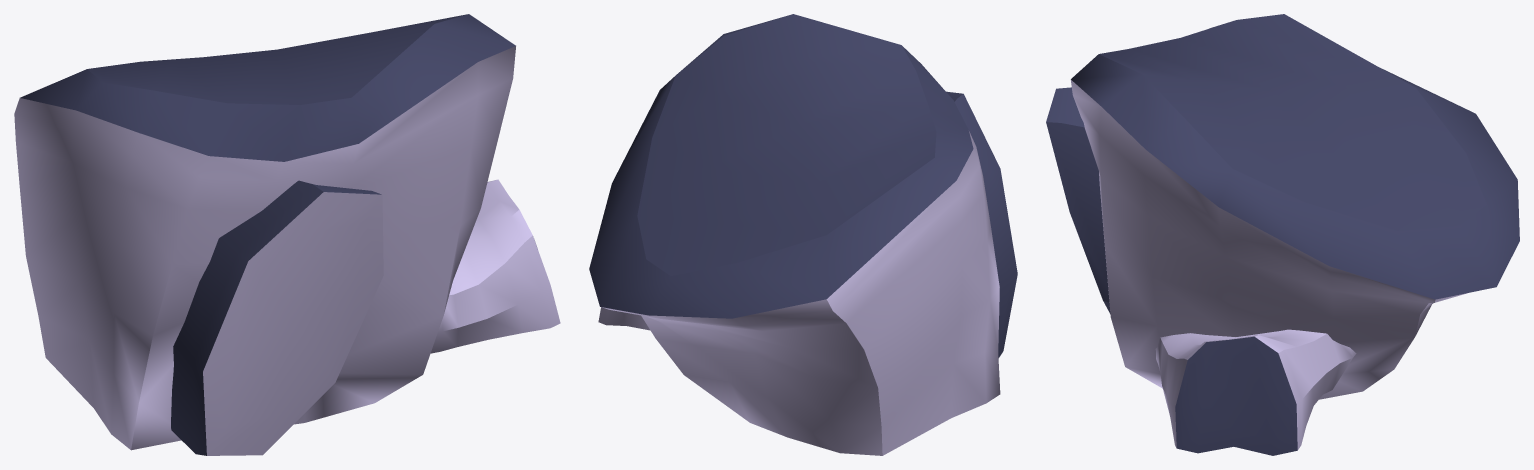
Rendered from SM_Prop_Rock.fbx.
3 renders of one model, left to right at view 1: azimuth 30°, elevation 25°; view 2: azimuth 150°, elevation 25°; view 3: azimuth 270°, elevation 25°, orthographic. The views are drawn at different scales.
Parts seen in each view (by area): view 1: SM_Prop_Rock; view 2: SM_Prop_Rock; view 3: SM_Prop_Rock.
Part boxes in pixels (left/top/right/bottom): SM_Prop_Rock: left=14, top=14, right=560, bottom=455; SM_Prop_Rock: left=589, top=14, right=1017, bottom=455; SM_Prop_Rock: left=1046, top=14, right=1519, bottom=455.
Size of the model in its own units: 219 by 185 by 233.
